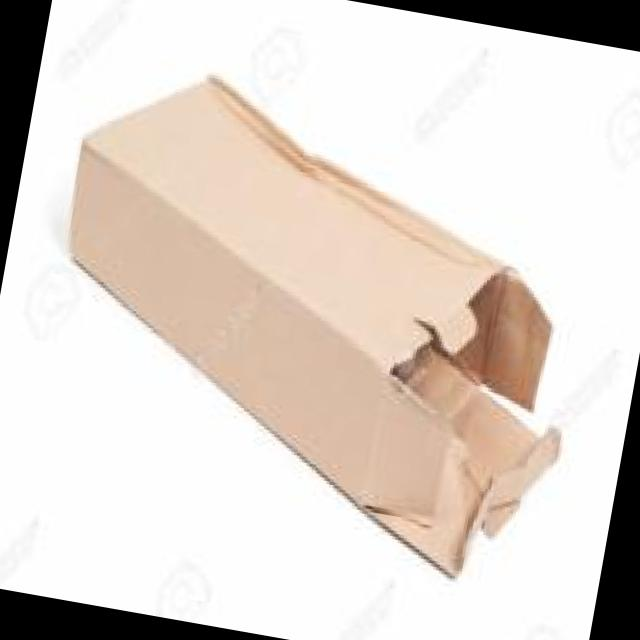box: (66, 73, 563, 581)
tear: (369, 266, 562, 578)
